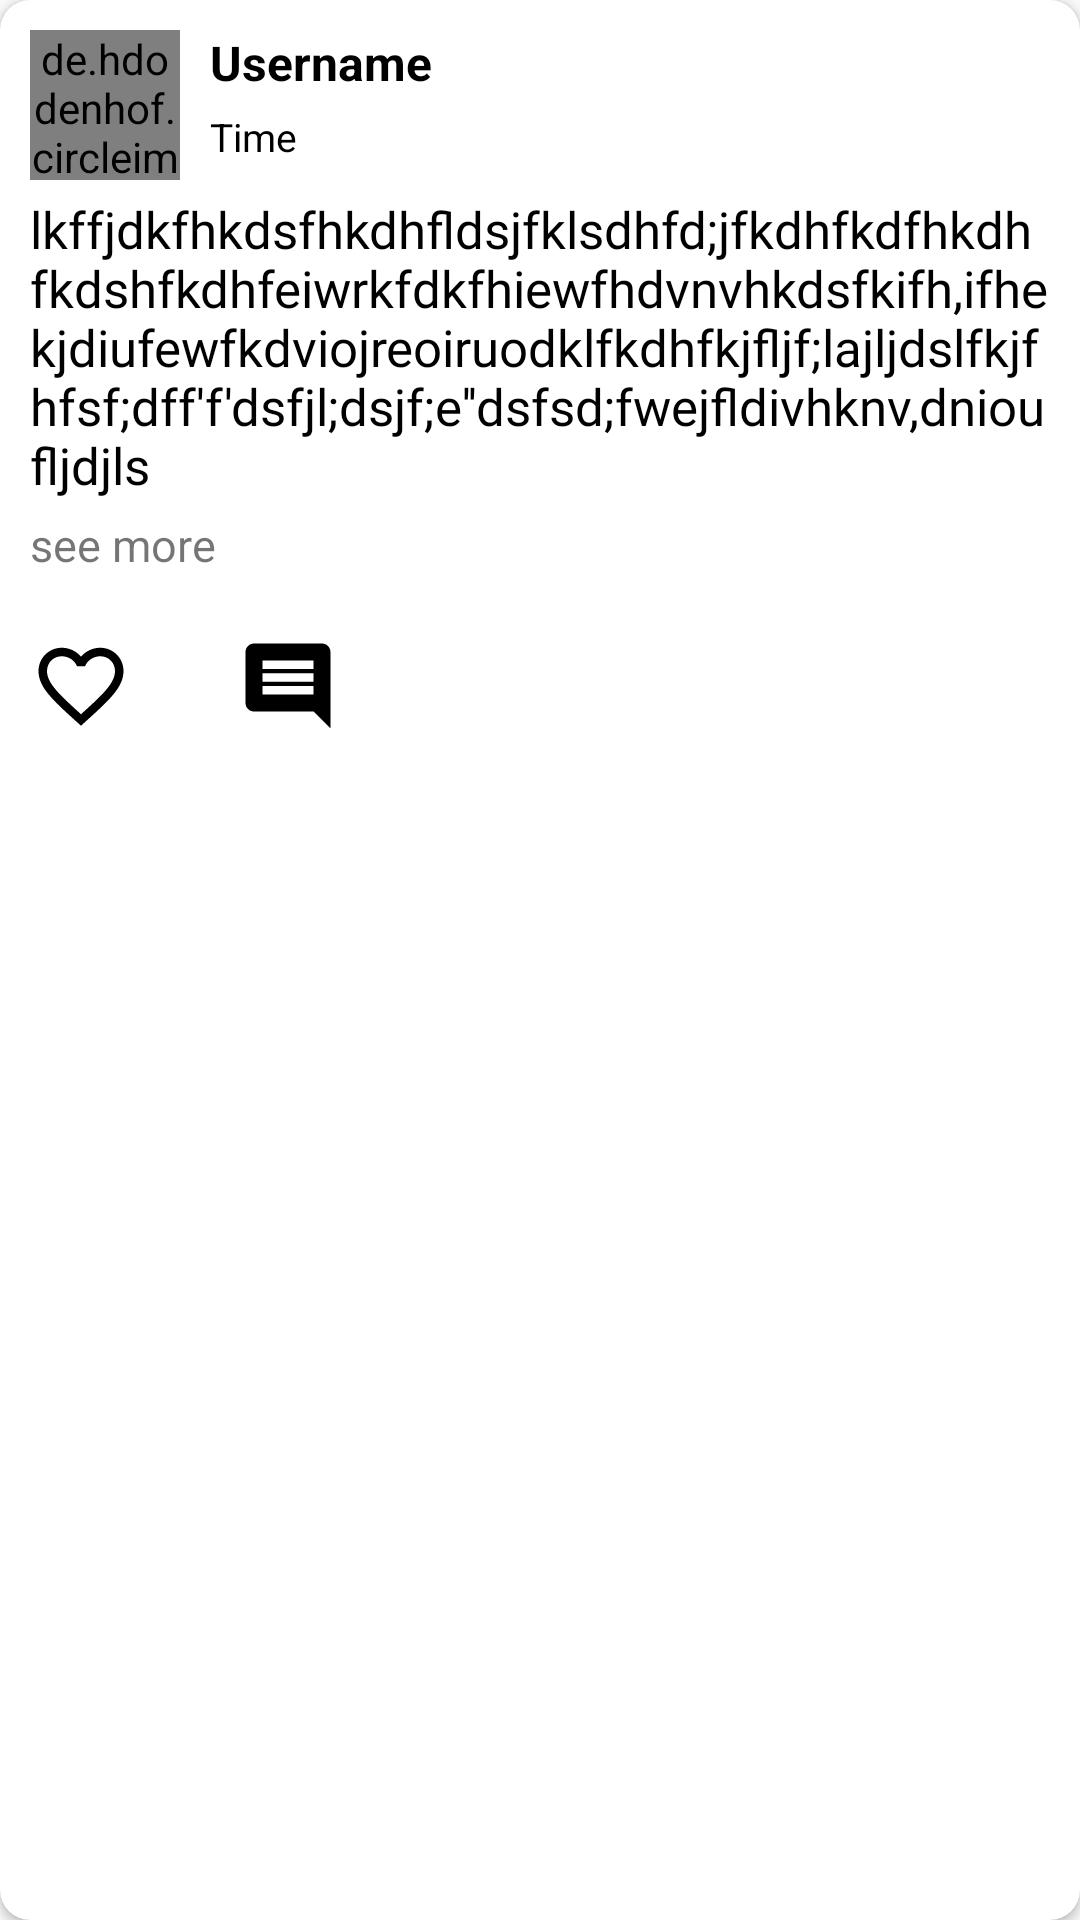

Icon click points for this 1080 × 1920 phone screenshot, format (x=x, y=y):
comment: (x=288, y=685)
favorite border: (x=81, y=686)
